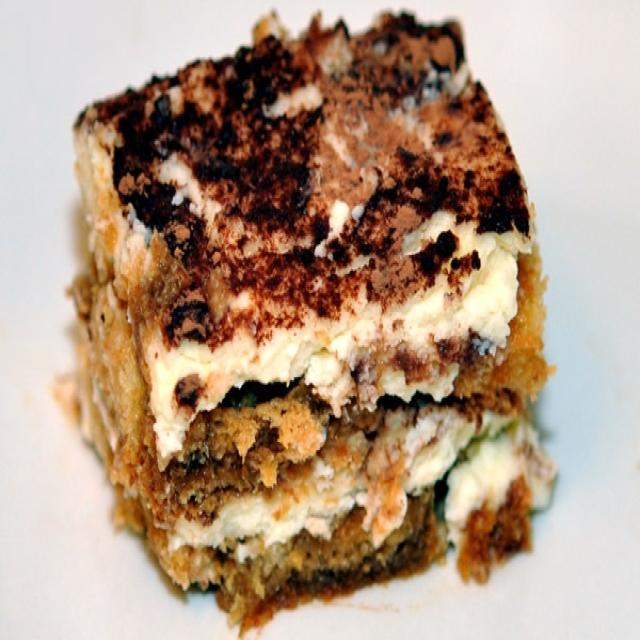蛋糕甜品: (26, 8, 593, 630)
